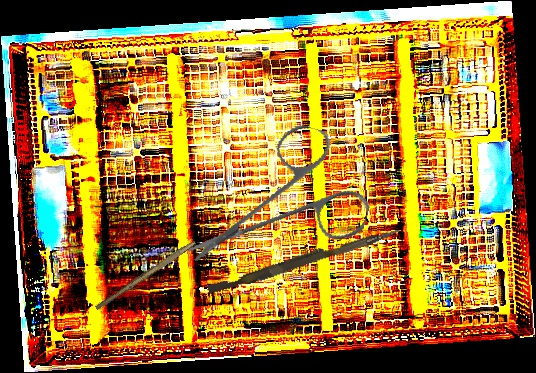Iris Scissors: (185, 104, 387, 303)
Pusher: (207, 220, 400, 300)
Scalpel Handle: (94, 237, 197, 313)
